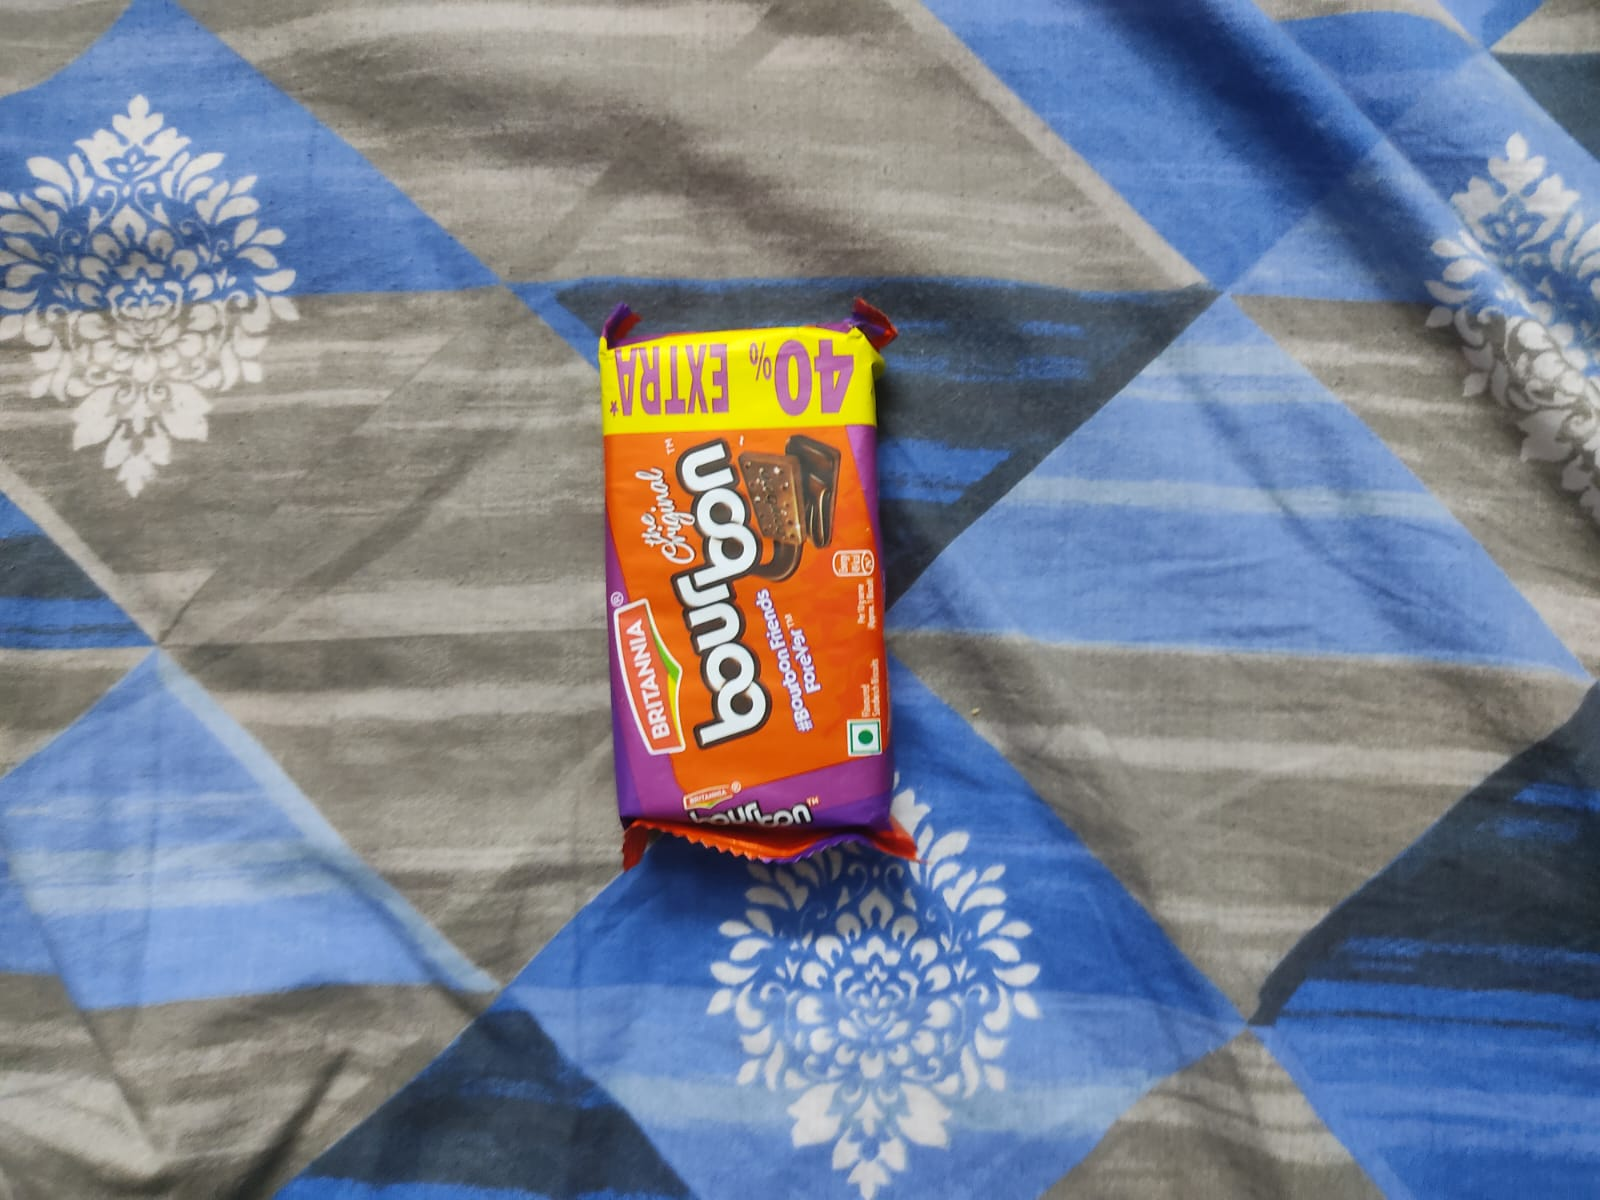010_Bourbon: (596, 326, 894, 824)
